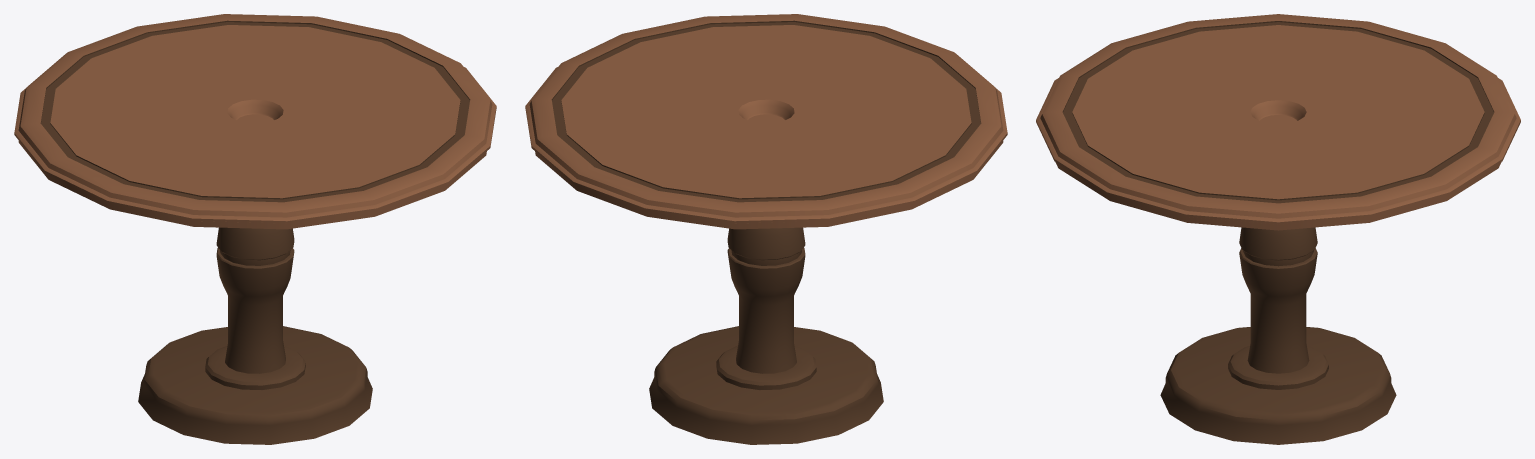
The model's file is mesinha.fbx.
The picture shows the model from 3 angles, left to right: view 1: azimuth 30°, elevation 25°; view 2: azimuth 150°, elevation 25°; view 3: azimuth 270°, elevation 25°; orthographic projection.
Parts seen in each view (by area): view 1: Cube; view 2: Cube; view 3: Cube.
Boxes of the visible parts, x1,y1,x2,y2 form: Cube: (14, 14, 496, 444); Cube: (525, 14, 1007, 444); Cube: (1036, 14, 1520, 444).
Bounding box in the file's own units: 4.57 × 2.94 × 4.57.
